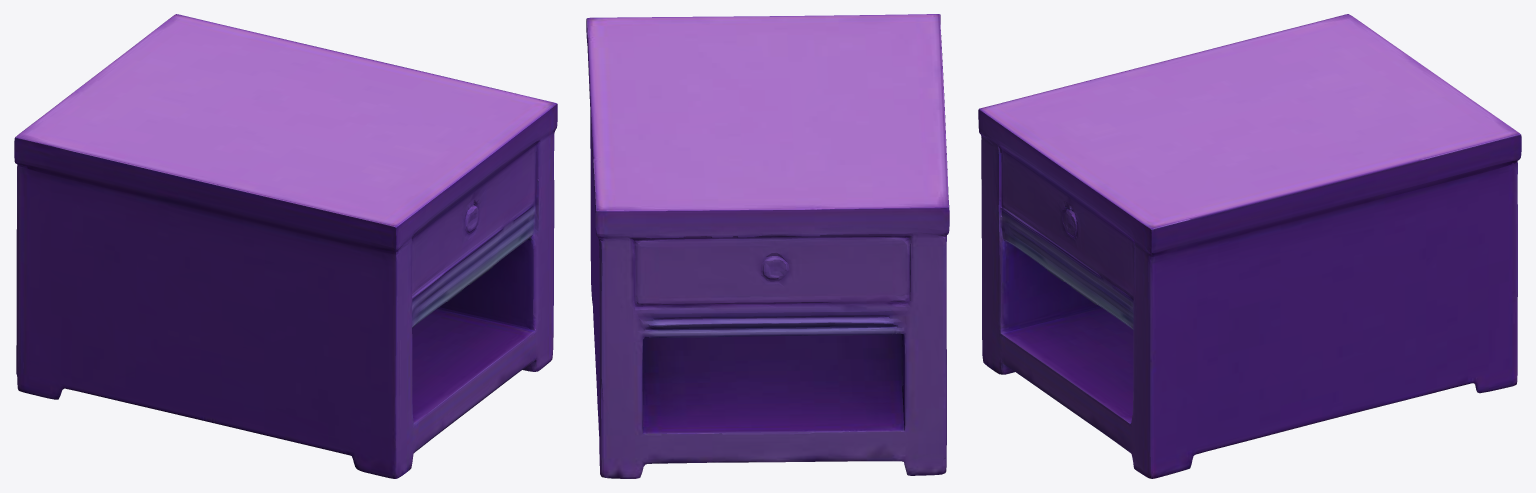
File: purple_side_table_000.glb
3 renders of one model, left to right at view 1: azimuth 30°, elevation 25°; view 2: azimuth 150°, elevation 25°; view 3: azimuth 270°, elevation 25°, orthographic. The views are drawn at different scales.
Parts seen in each view (by area): view 1: phase2_final_purple_side_table_000.obj; view 2: phase2_final_purple_side_table_000.obj; view 3: phase2_final_purple_side_table_000.obj.
Boxes of the visible parts, <box> form: phase2_final_purple_side_table_000.obj: <box>14,14,557,478</box>; phase2_final_purple_side_table_000.obj: <box>586,14,949,478</box>; phase2_final_purple_side_table_000.obj: <box>978,14,1521,478</box>.
Bounding box in the file's own units: 0.5108 × 0.2817 × 0.5452.
Materials: 1 (1 with a texture image).
